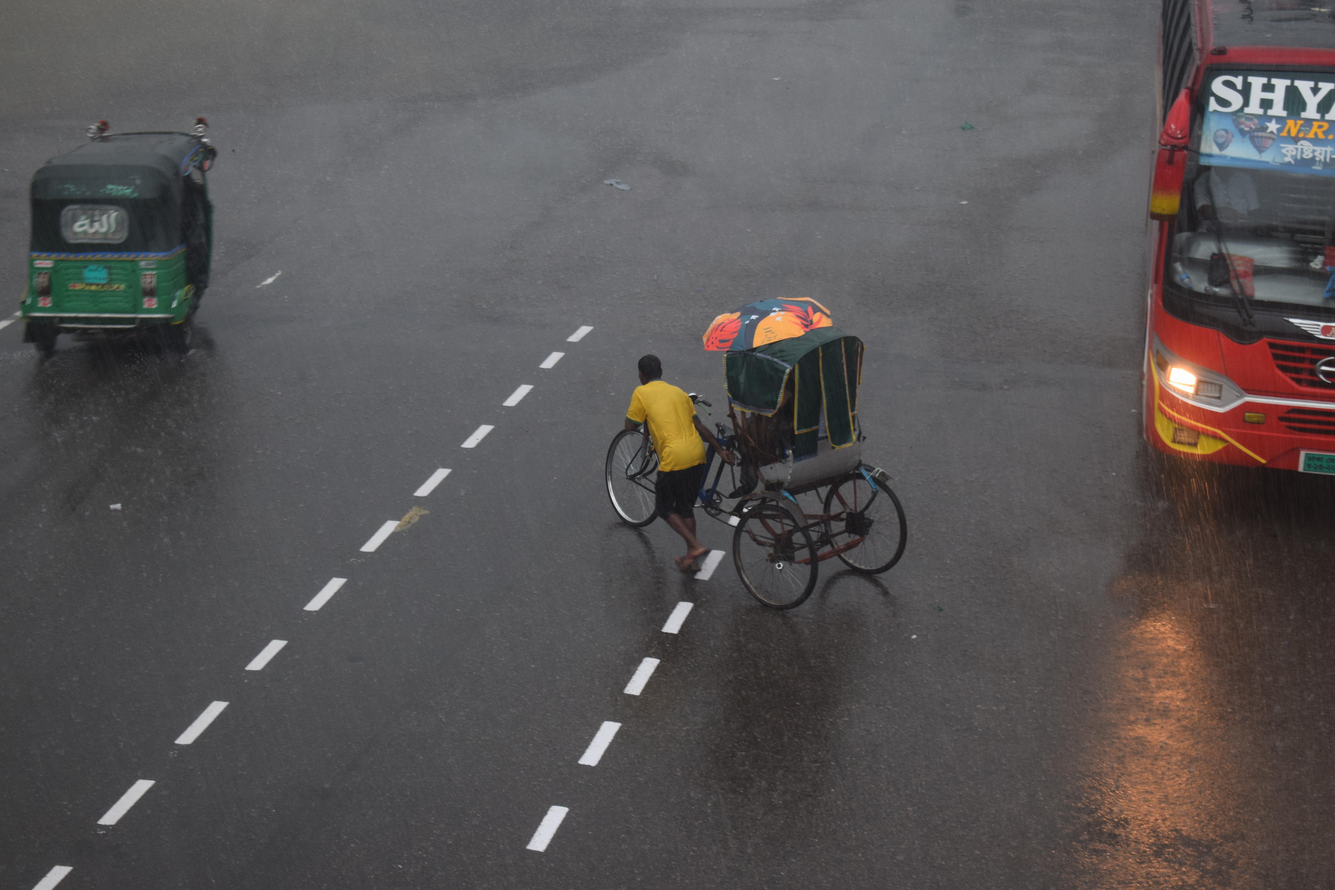Bus: (1047, 0, 1335, 537)
Car: (520, 267, 971, 641)
